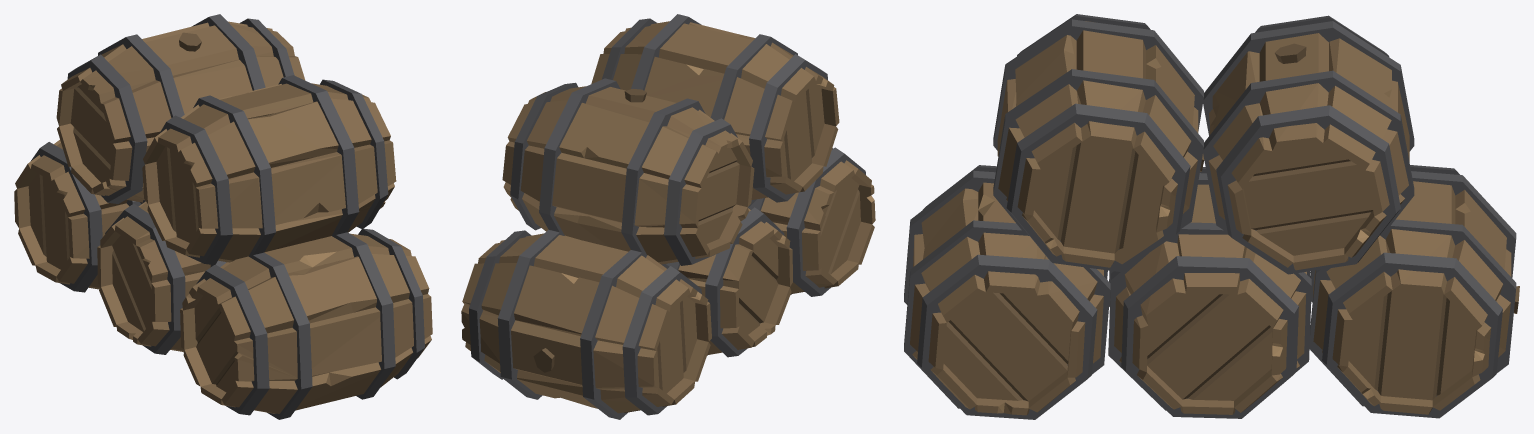
File: poly_barrel_b.glb
The picture shows the model from 3 angles, left to right: view 1: azimuth 30°, elevation 25°; view 2: azimuth 150°, elevation 25°; view 3: azimuth 270°, elevation 25°; orthographic projection. The views are drawn at different scales.
Parts seen in each view (by area): view 1: SM_Prop_Barrel_02; view 2: SM_Prop_Barrel_02; view 3: SM_Prop_Barrel_02.
Boxes of the visible parts, box(x1,y1,x2,y2) form: SM_Prop_Barrel_02: box(14, 14, 432, 419); SM_Prop_Barrel_02: box(461, 14, 875, 419); SM_Prop_Barrel_02: box(904, 14, 1519, 419).
Size of the model in its own units: 117 by 159 by 263.
Materials: 1 (1 with a texture image).
